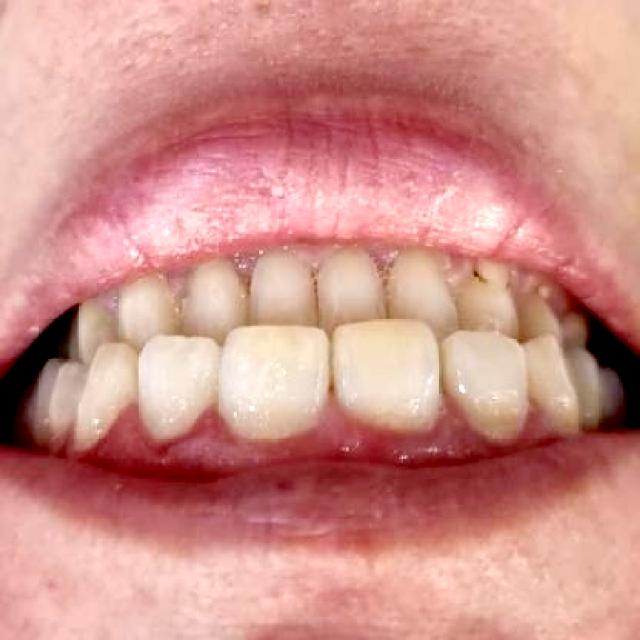Plaque: (59, 398, 557, 462), (294, 243, 338, 276), (364, 243, 403, 274), (469, 268, 512, 296), (448, 259, 479, 290), (234, 250, 257, 283), (95, 284, 117, 317), (166, 271, 185, 300)
